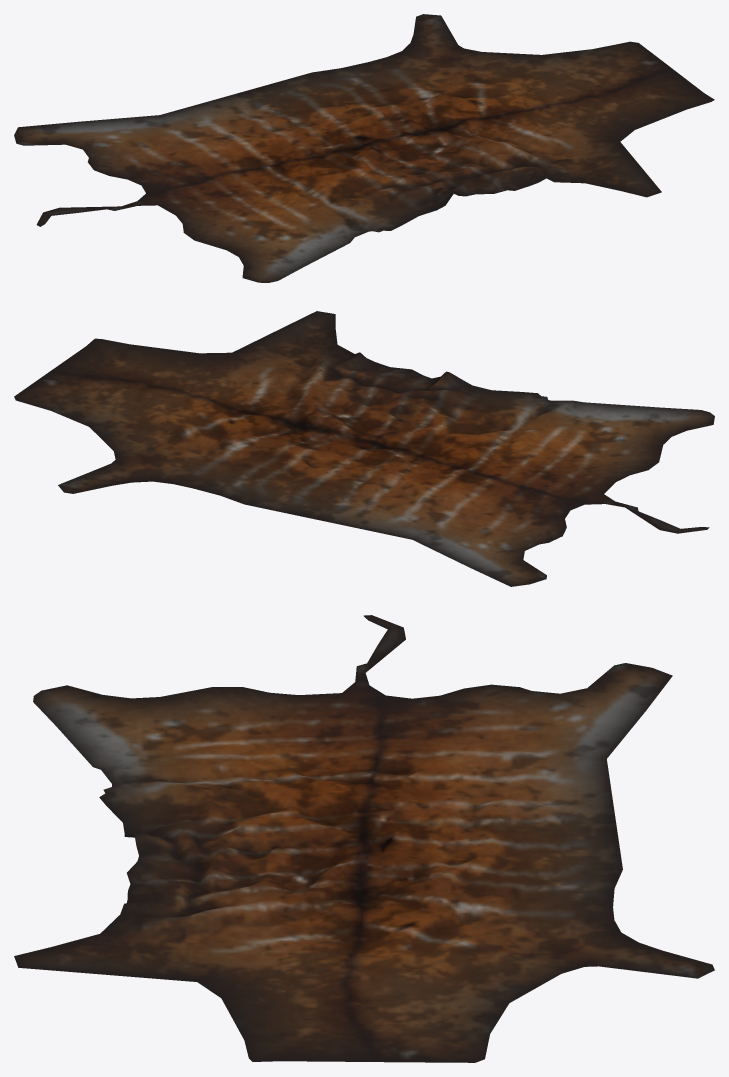
File: SM_AnimalHide5.fbx
3 renders of one model, top to bottom at view 1: azimuth 30°, elevation 25°; view 2: azimuth 150°, elevation 25°; view 3: azimuth 270°, elevation 25°, orthographic. The views are drawn at different scales.
Parts seen in each view (by area): view 1: SM_AnimalHide5_LOD0; view 2: SM_AnimalHide5_LOD0; view 3: SM_AnimalHide5_LOD0.
Boxes of the visible parts, x1,y1,x2,y2 form: SM_AnimalHide5_LOD0: (14, 14, 714, 282); SM_AnimalHide5_LOD0: (14, 311, 714, 586); SM_AnimalHide5_LOD0: (14, 615, 714, 1062).
Bounding box in the file's own units: 243 × 161 × 4.13.
1 material, 1 textured.
